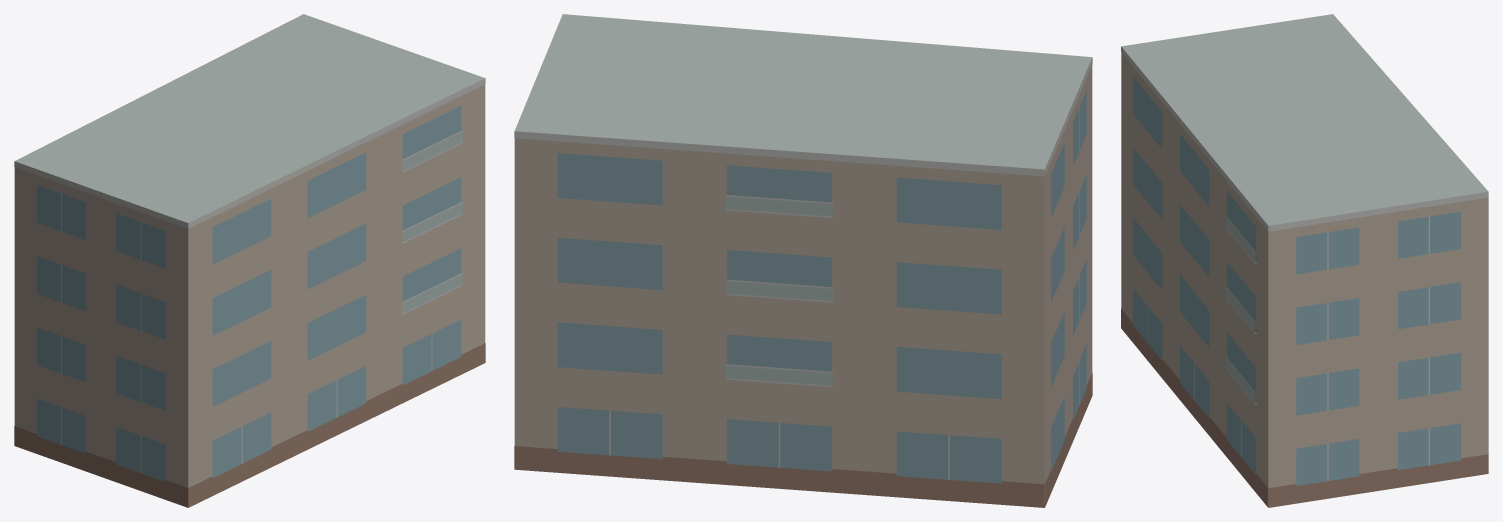
Rendered from survey-upis-32972830.glb.
The picture shows the model from 3 angles, left to right: view 1: azimuth 30°, elevation 25°; view 2: azimuth 150°, elevation 25°; view 3: azimuth 270°, elevation 25°; orthographic projection. The views are drawn at different scales.
Visible parts, largest first — view 1: survey-upis-32972830.tmp; view 2: survey-upis-32972830.tmp; view 3: survey-upis-32972830.tmp.
Boxes of the visible parts, <box> form: survey-upis-32972830.tmp: <box>14,14,485,507</box>; survey-upis-32972830.tmp: <box>514,14,1092,507</box>; survey-upis-32972830.tmp: <box>1121,14,1488,507</box>.
Size of the model in its own units: 19.02 by 11.8 by 13.95.
